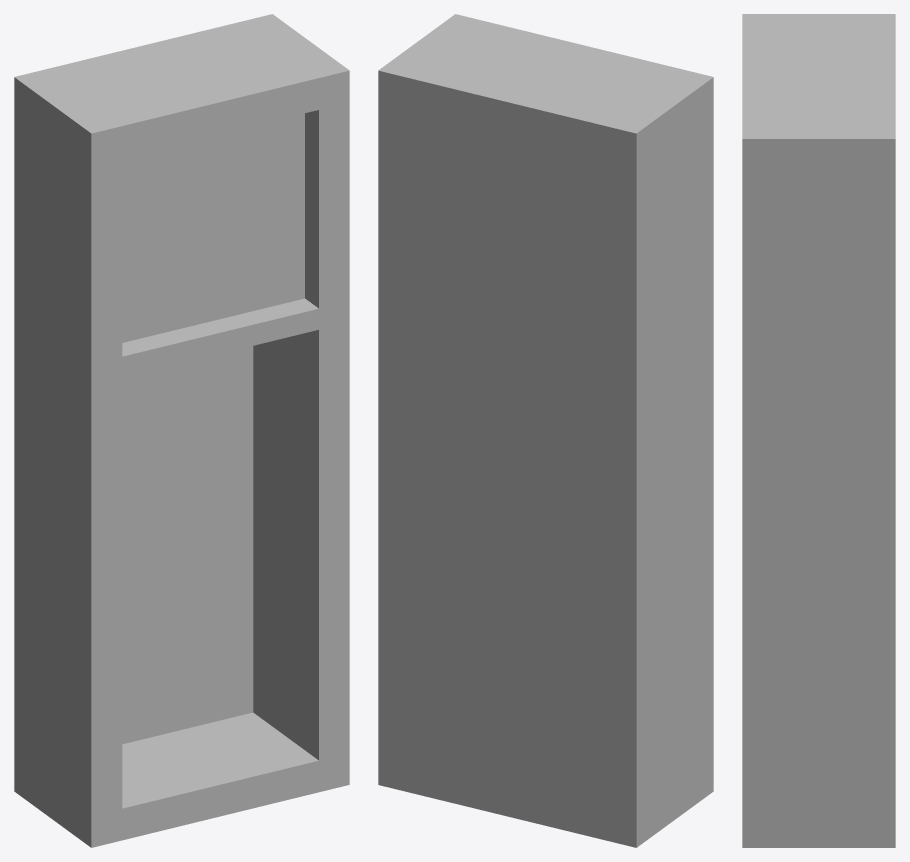
The model's file is Itr_Obj_Grandfatherclock2_Body_06.FBX.
The picture shows the model from 3 angles, left to right: view 1: azimuth 30°, elevation 25°; view 2: azimuth 150°, elevation 25°; view 3: azimuth 270°, elevation 25°; orthographic projection.
Visible parts, largest first — view 1: Itr_Obj_Grandfatherclock2_Body_06; view 2: Itr_Obj_Grandfatherclock2_Body_06; view 3: Itr_Obj_Grandfatherclock2_Body_06.
Boxes of the visible parts, x1=… form: Itr_Obj_Grandfatherclock2_Body_06: x1=14, y1=14, x2=349, y2=847; Itr_Obj_Grandfatherclock2_Body_06: x1=378, y1=14, x2=713, y2=847; Itr_Obj_Grandfatherclock2_Body_06: x1=742, y1=14, x2=895, y2=847.
Bounding box in the file's own units: 20.58 × 54.37 × 10.67.
